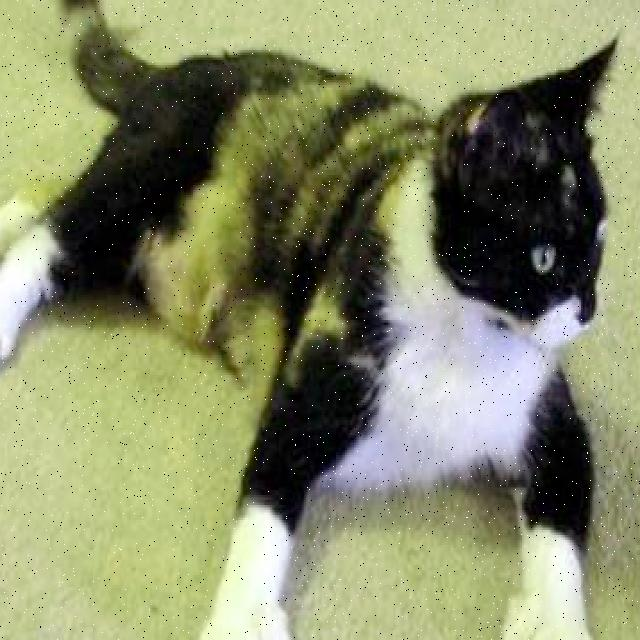Cat: (432, 40, 626, 372)
